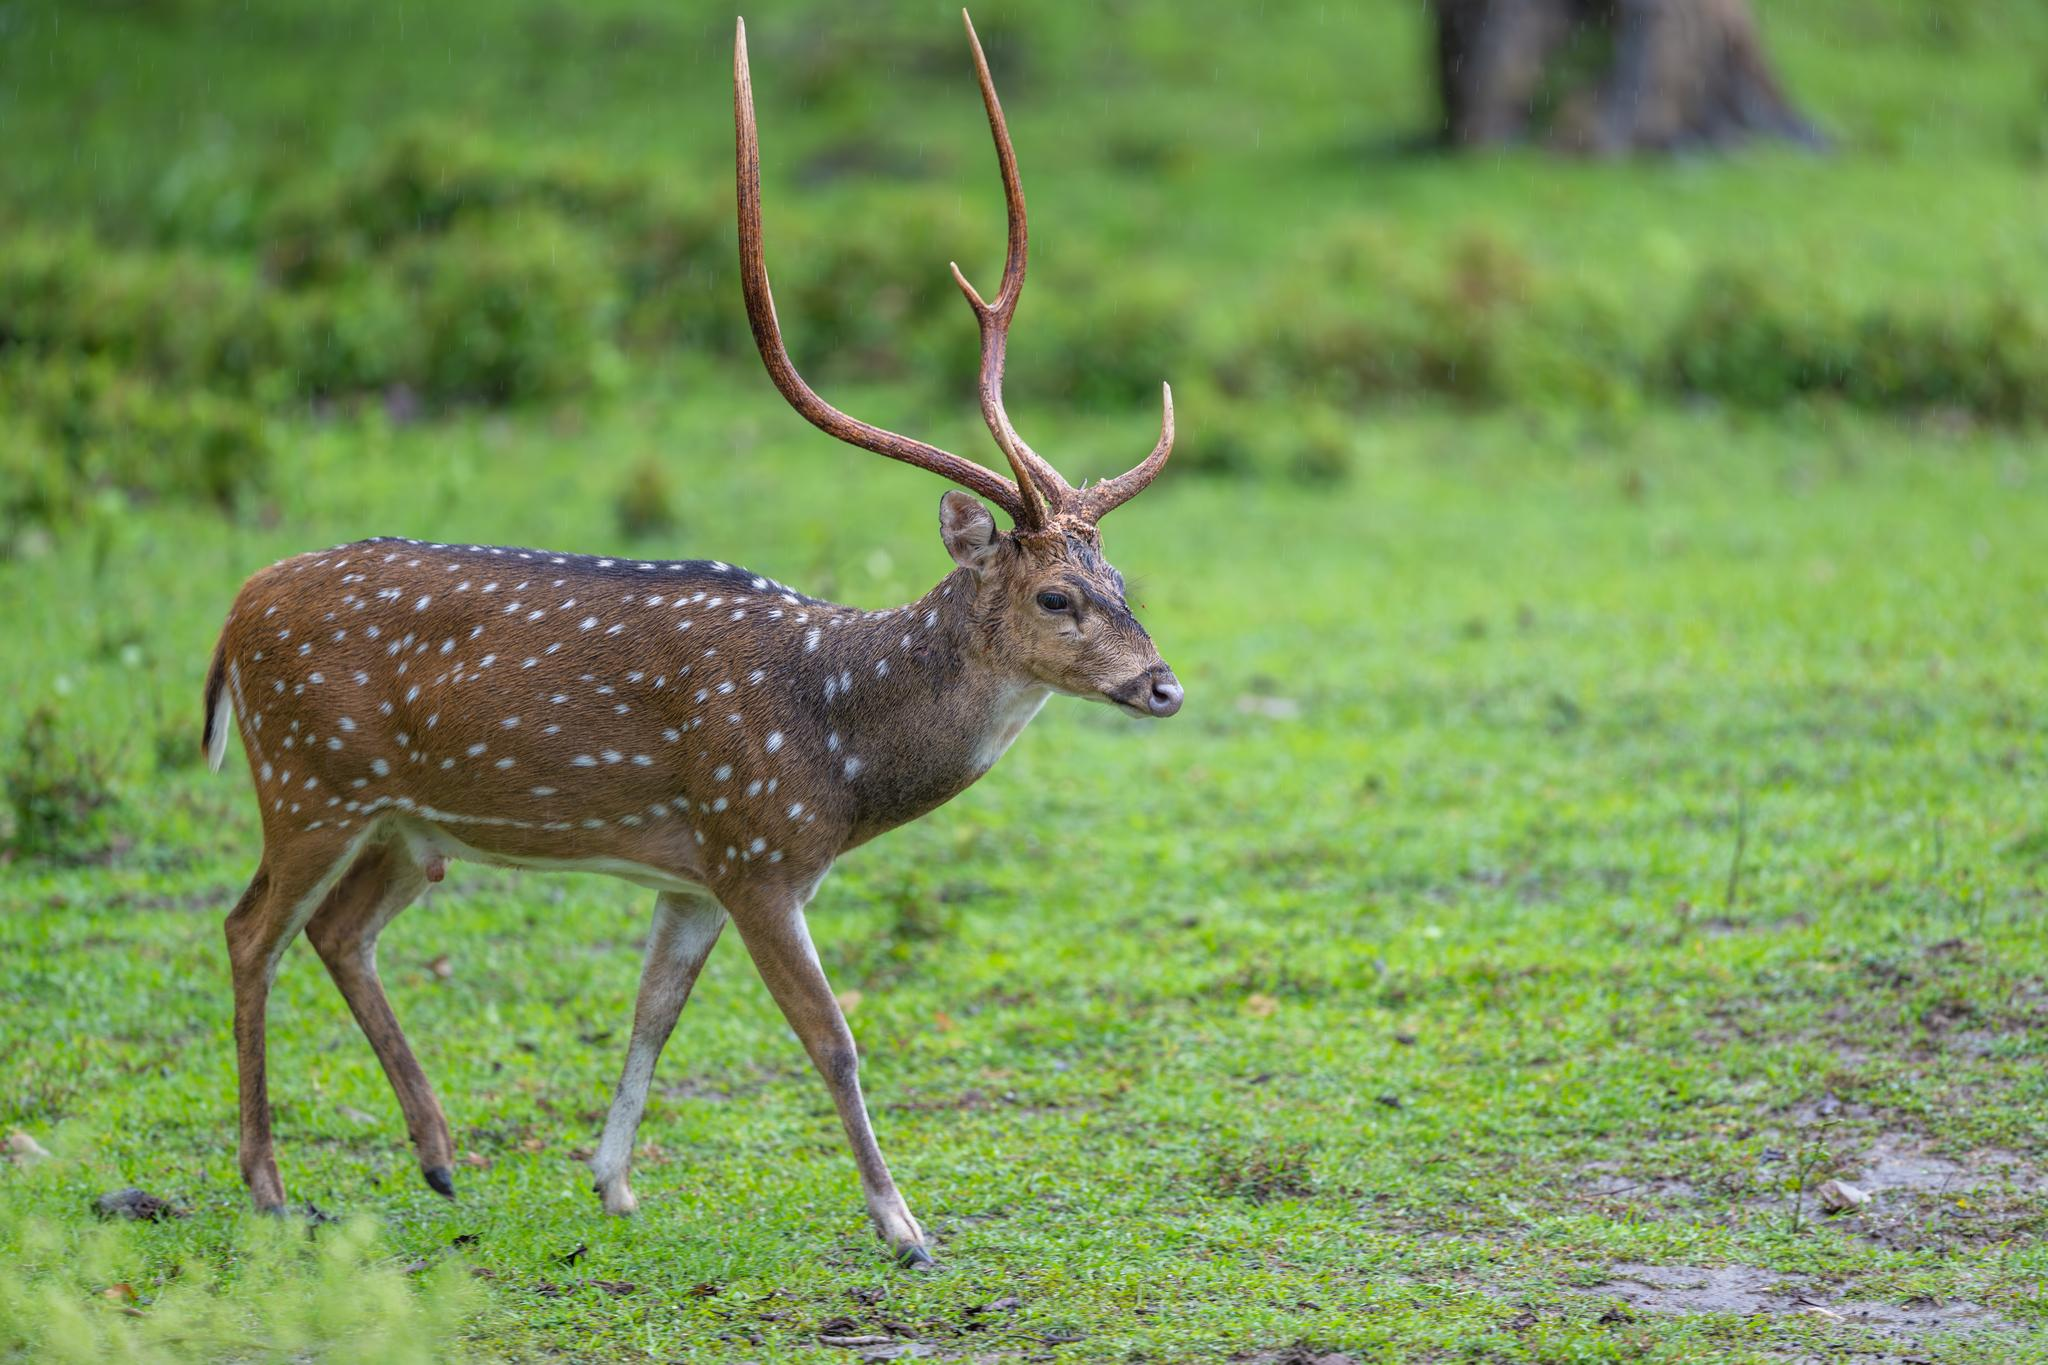Deer: (203, 11, 1183, 1261)
